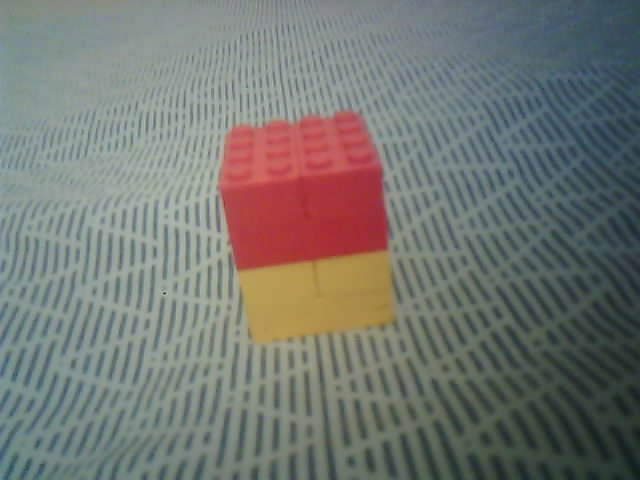lego: (215, 107, 396, 346)
